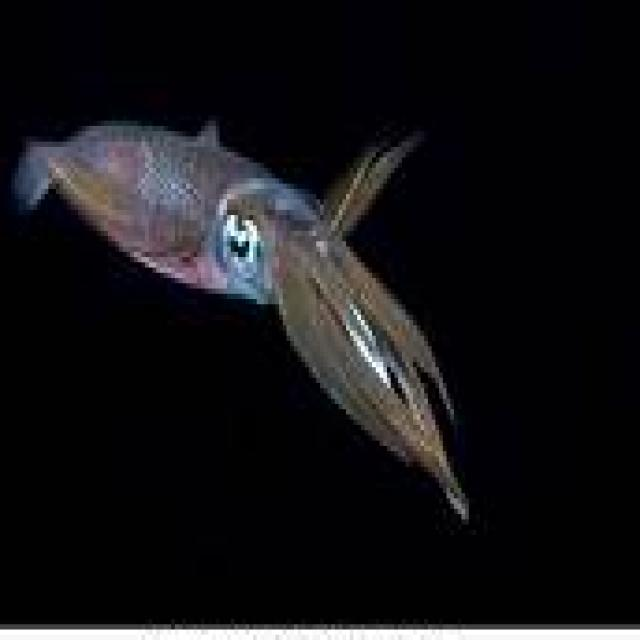SQUID: (5, 84, 480, 540)
